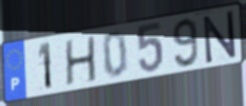0: (101, 29, 129, 80)
1: (37, 40, 53, 93)
5: (135, 20, 165, 76)
9: (171, 16, 201, 70)
H: (63, 34, 99, 88)
N: (202, 8, 239, 66)
